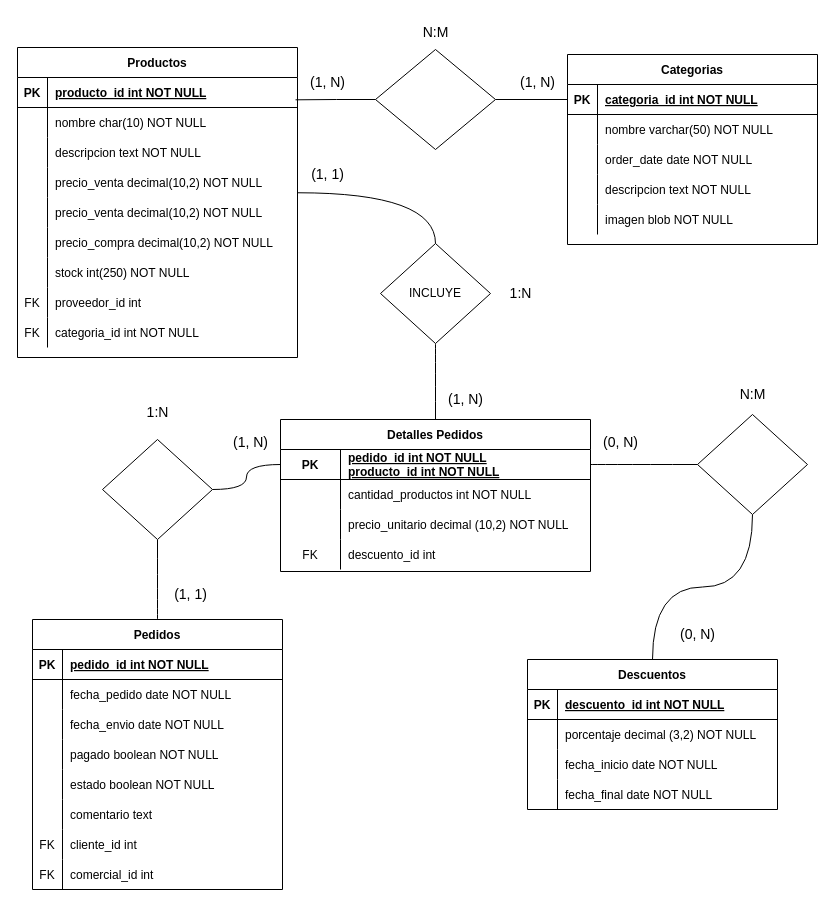
Some shapes in this 835 by 907 pixel diagram are drawn without their labels. The shapes that lost their labels are listed below. From the top down, each one's centre as x and y in pixels, then its label:
At [435,99]: "PERTENECEN".
At [752,464]: "APLICA".
At [157,489]: "GENERA".
